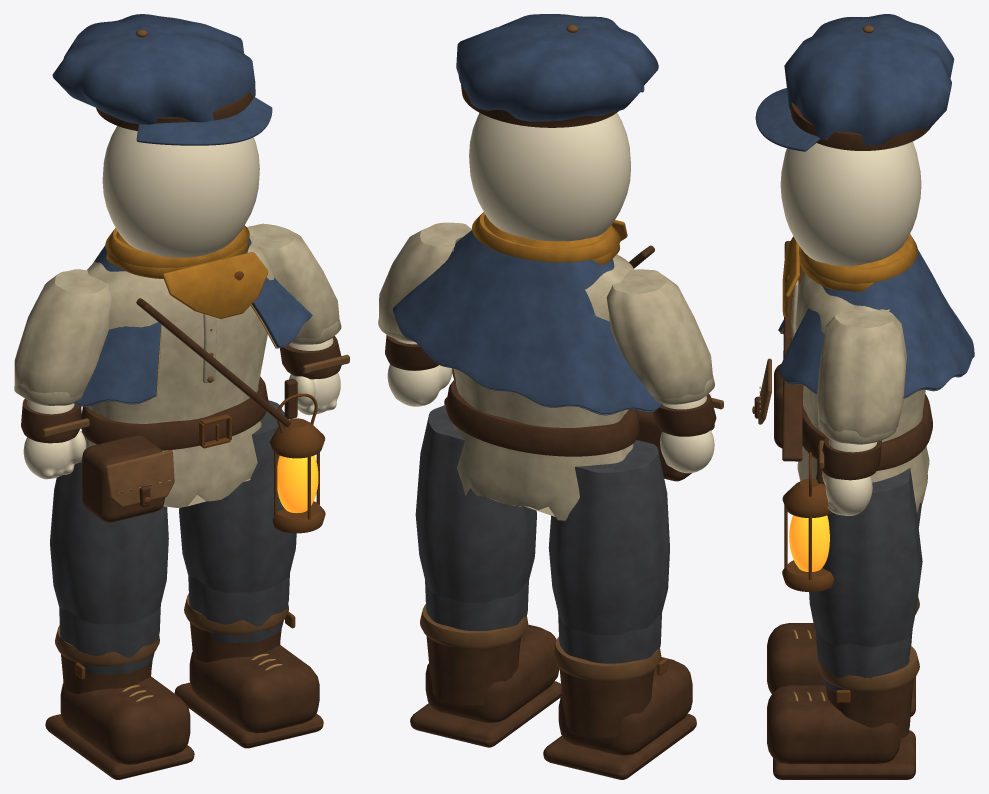
3 views of the same model, side by side, from view 1: azimuth 30°, elevation 25°; view 2: azimuth 150°, elevation 25°; view 3: azimuth 270°, elevation 25° (orthographic). The views are drawn at different scales.
Parts seen in each view (by area): view 1: C_CapVisor, C_Shirt, C_Face, C_PantsUpperL, C_BootShaftR, C_BootShaftL, C_PantsUpperR, C_SleeveL, C_ArtisanShoulderCape, C_ScarfDrape, C_Satchel, C_SleeveR (+14 smaller); view 2: C_ArtisanShoulderCape, C_PantsUpperL, C_Face, C_CapVisor, C_PantsUpperR, C_BootShaftL, C_Shirt, C_BootShaftR, C_SleeveL, C_LanternBeltLoop, C_SleeveR, C_ScarfDrape (+10 smaller); view 3: C_CapVisor, C_Face, C_PantsUpperR, C_BootShaftR, C_ArtisanShoulderCape, C_SleeveR, C_Shirt, C_ScarfDrape, C_BootShaftL, C_BeltBucklePin, C_PantsLowerR, C_Satchel (+8 smaller).
Boxes of the visible parts, x1,y1,x2,y2 form: C_CapVisor: (52, 14, 272, 145); C_Shirt: (86, 236, 274, 507); C_Face: (102, 126, 259, 257); C_PantsUpperL: (50, 431, 168, 624); C_BootShaftR: (174, 622, 323, 748); C_BootShaftL: (45, 654, 194, 779); C_PantsUpperR: (179, 400, 296, 592); C_SleeveL: (14, 269, 112, 397); C_ArtisanShoulderCape: (75, 237, 312, 405); C_ScarfDrape: (105, 225, 268, 318); C_Satchel: (82, 298, 290, 522); C_SleeveR: (247, 223, 339, 339); C_ArtisanShoulderCape: (392, 230, 662, 414); C_PantsUpperL: (548, 440, 669, 635); C_Face: (469, 113, 630, 241); C_CapVisor: (456, 14, 658, 121); C_PantsUpperR: (415, 404, 536, 602); C_BootShaftL: (543, 657, 696, 779); C_Shirt: (452, 237, 633, 520); C_BootShaftR: (410, 624, 561, 747); C_SleeveL: (606, 269, 712, 398); C_LanternBeltLoop: (446, 378, 640, 456); C_SleeveR: (379, 222, 471, 335); C_ScarfDrape: (472, 212, 627, 264); C_CapVisor: (755, 14, 954, 151); C_Face: (780, 141, 921, 266); C_PantsUpperR: (809, 468, 922, 646); C_BootShaftR: (767, 679, 915, 779); C_ArtisanShoulderCape: (778, 249, 974, 397); C_SleeveR: (817, 308, 906, 437); C_Shirt: (791, 241, 929, 512); C_ScarfDrape: (782, 234, 917, 316); C_BootShaftL: (767, 623, 915, 716); C_BeltBucklePin: (782, 452, 834, 591); C_PantsLowerR: (815, 630, 911, 693); C_Satchel: (754, 241, 804, 461).
Bounding box in the file's own units: 0.9315 × 1.97 × 0.5744.
11 materials, 11 textured.
